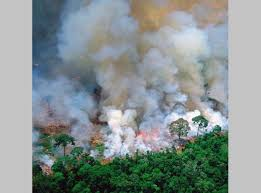fire: (136, 126, 163, 153)
smoke: (34, 1, 228, 125)
